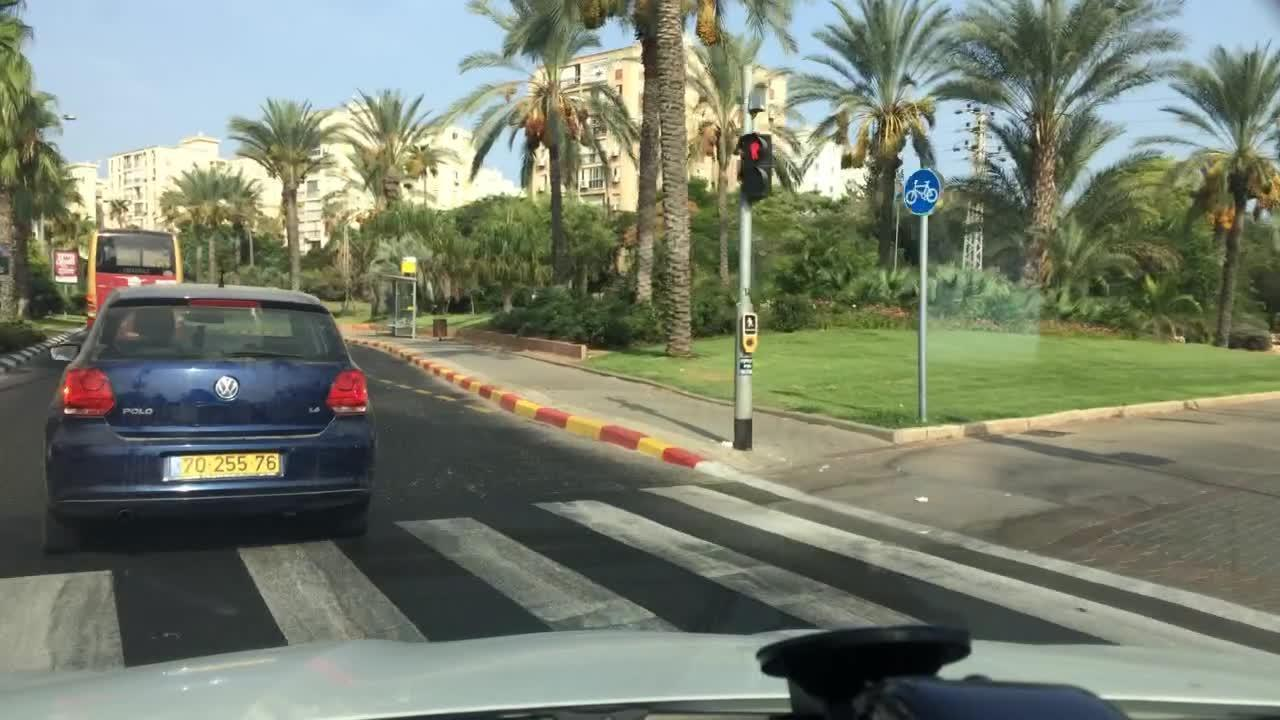Volkswagen: (207, 365, 243, 406)
